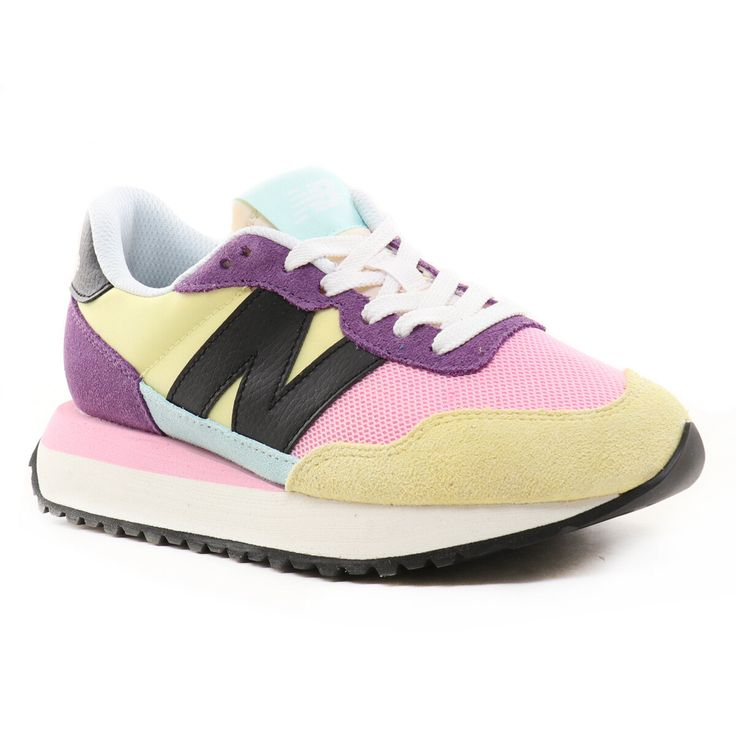gamuza: (66, 220, 548, 434)
